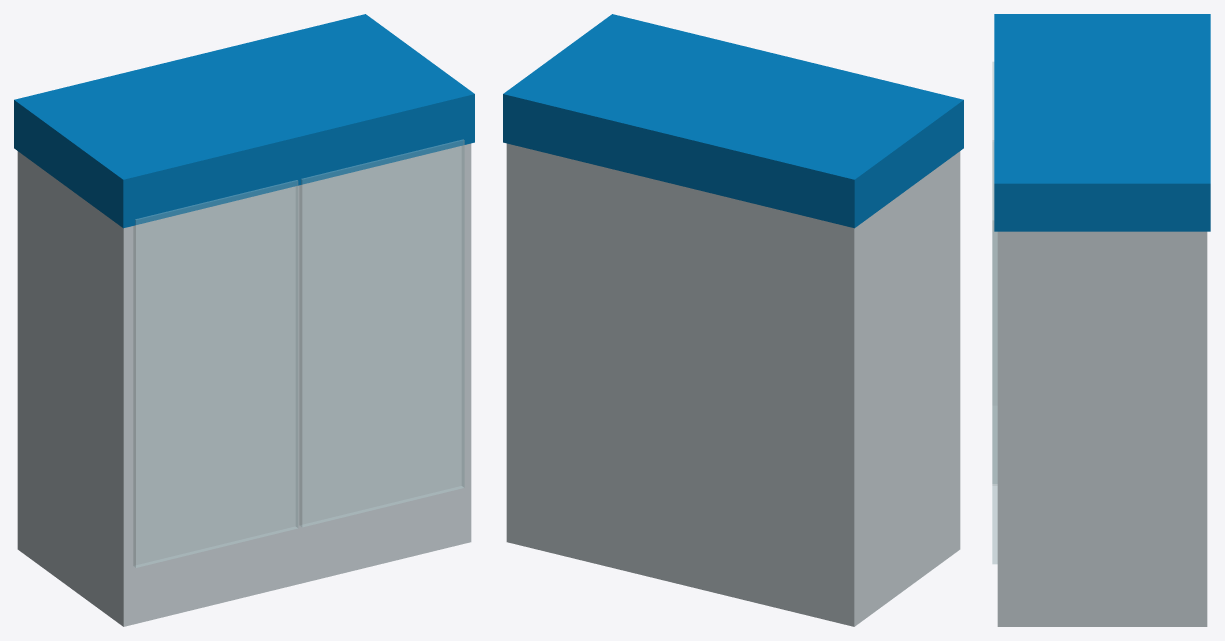
File: refrigerator.glb
3 renders of one model, left to right at view 1: azimuth 30°, elevation 25°; view 2: azimuth 150°, elevation 25°; view 3: azimuth 270°, elevation 25°, orthographic.
Visible parts, largest first — view 1: Cabinet_Shell, Header_Canopy, Glass_Door_Right, Glass_Door_Left; view 2: Cabinet_Shell, Header_Canopy; view 3: Cabinet_Shell, Header_Canopy, Glass_Door_Right, Glass_Door_Left.
Part boxes in pixels (box(x1,y1,x2,y2)): Cabinet_Shell: box(17, 143, 471, 626); Header_Canopy: box(14, 14, 474, 228); Glass_Door_Right: box(299, 139, 464, 527); Glass_Door_Left: box(133, 180, 298, 567); Cabinet_Shell: box(506, 143, 960, 626); Header_Canopy: box(503, 14, 963, 228); Cabinet_Shell: box(997, 231, 1207, 626); Header_Canopy: box(994, 14, 1210, 231); Glass_Door_Right: box(992, 142, 997, 564); Glass_Door_Left: box(992, 61, 997, 483).
Size of the model in its own units: 1.82 by 2.22 by 0.99.
